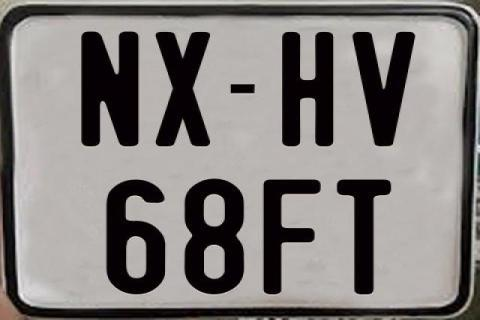0: (181, 177, 246, 297), (104, 180, 168, 300)
F: (261, 178, 323, 296)
H: (281, 32, 334, 147)
N: (80, 30, 144, 150)
T: (338, 177, 394, 292)
V: (350, 32, 416, 151)
X: (154, 31, 210, 149)
